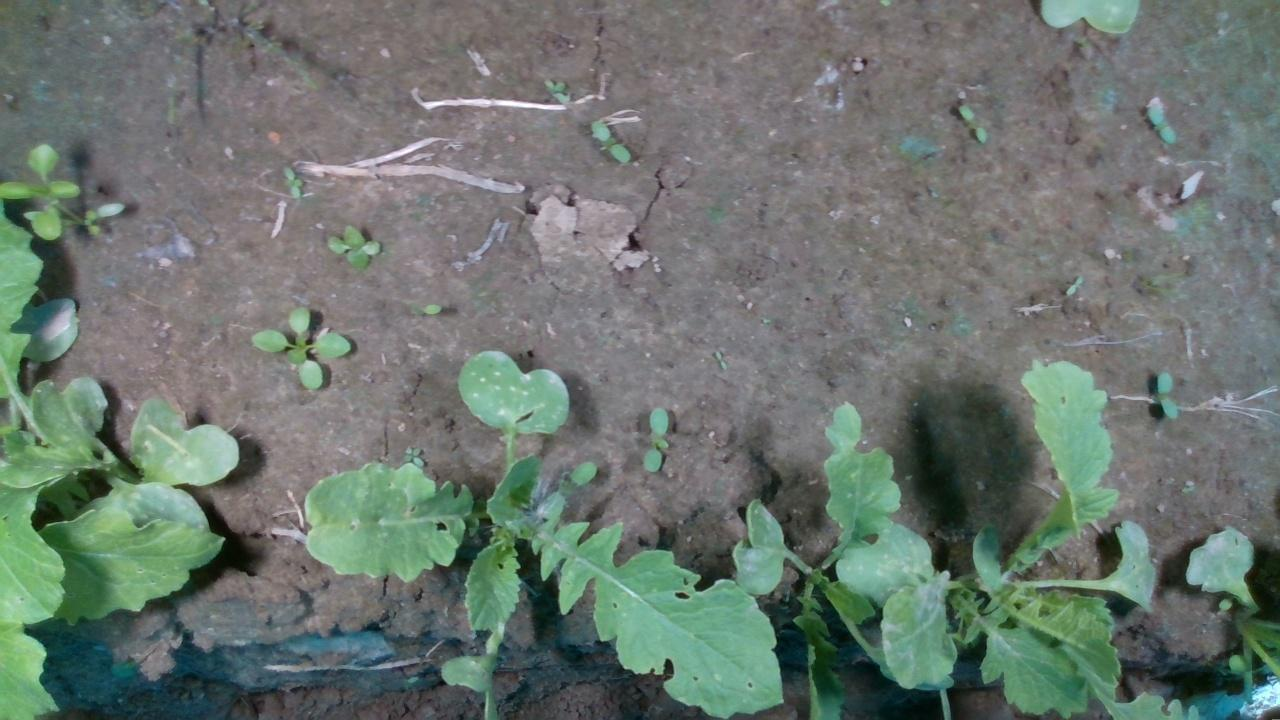weed: (321, 221, 382, 271), (640, 404, 670, 475), (589, 118, 629, 165), (955, 99, 988, 145), (1144, 100, 1176, 146), (1154, 368, 1180, 420), (279, 164, 305, 201), (405, 300, 442, 318), (712, 349, 725, 371)
